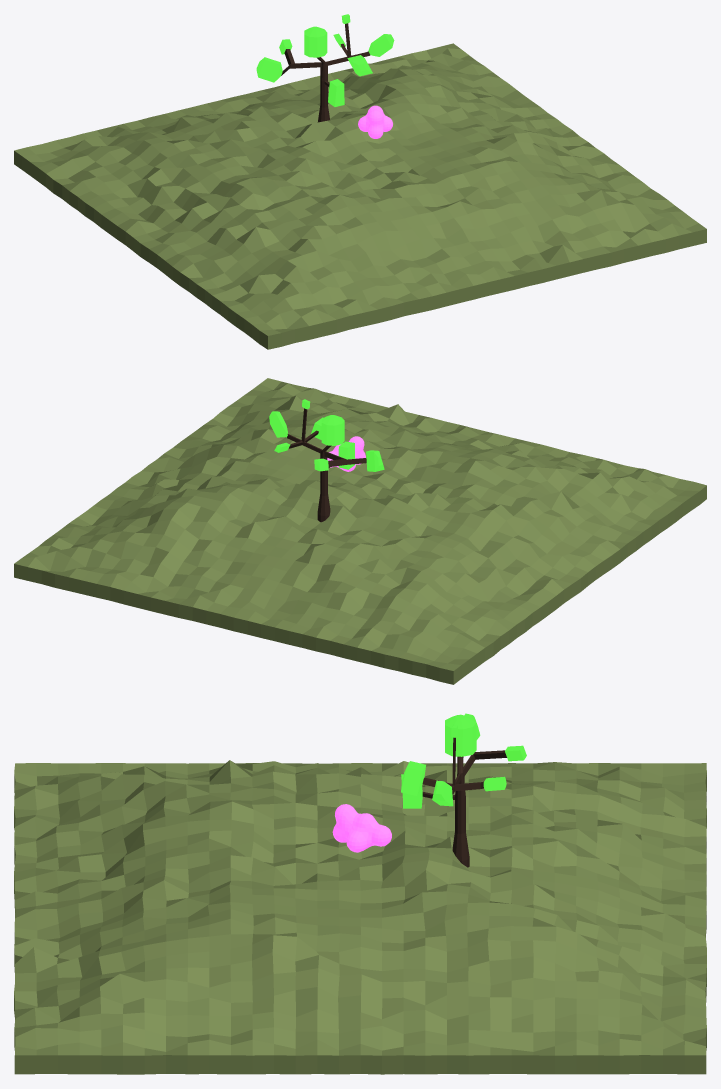
The model's file is terrain.glb.
The picture shows the model from 3 angles, top to bottom: view 1: azimuth 30°, elevation 25°; view 2: azimuth 150°, elevation 25°; view 3: azimuth 270°, elevation 25°; orthographic projection. The views are drawn at different scales.
Parts seen in each view (by area): view 1: Plane, leaves, Glowing Tree, Mball.008; view 2: Plane, leaves, Glowing Tree; view 3: Plane, leaves, Glowing Tree, Mball.008.
Boxes of the visible parts, left/top/right/bottom form: Plane: left=14, top=43, right=706, bottom=349; leaves: left=256, top=14, right=394, bottom=106; Glowing Tree: left=281, top=23, right=370, bottom=122; Mball.008: left=358, top=105, right=392, bottom=138; Plane: left=14, top=378, right=706, bottom=684; leaves: left=269, top=399, right=384, bottom=471; Glowing Tree: left=286, top=408, right=366, bottom=522; Plane: left=14, top=760, right=706, bottom=1074; leaves: left=401, top=713, right=526, bottom=808; Glowing Tree: left=422, top=737, right=506, bottom=867; Mball.008: left=332, top=804, right=391, bottom=852.
Bounding box in the file's own units: 73.96 × 25.44 × 73.95.
